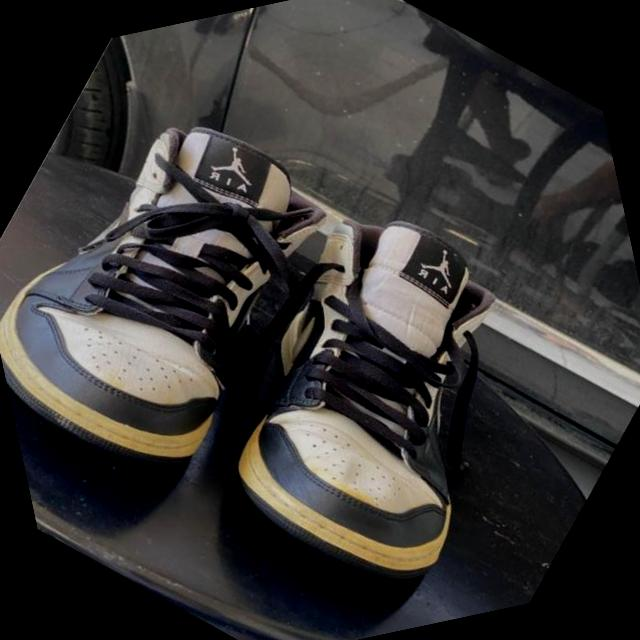nike_fake_jordan: (138, 143, 635, 640), (0, 32, 403, 529)
